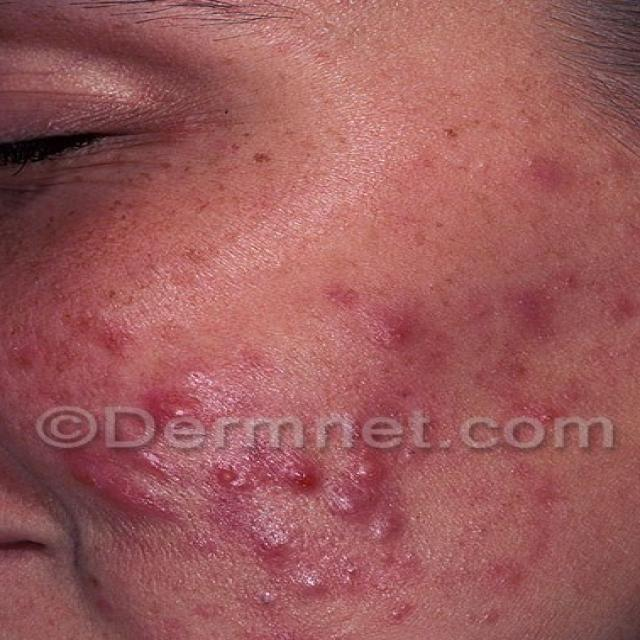Acne: (68, 360, 588, 640), (308, 270, 640, 346), (519, 131, 610, 208)
